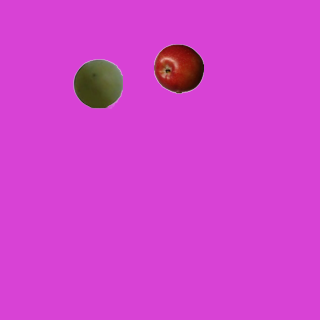Apple Braeburn: (153, 43, 203, 93)
Grape White 4: (72, 58, 122, 108)
